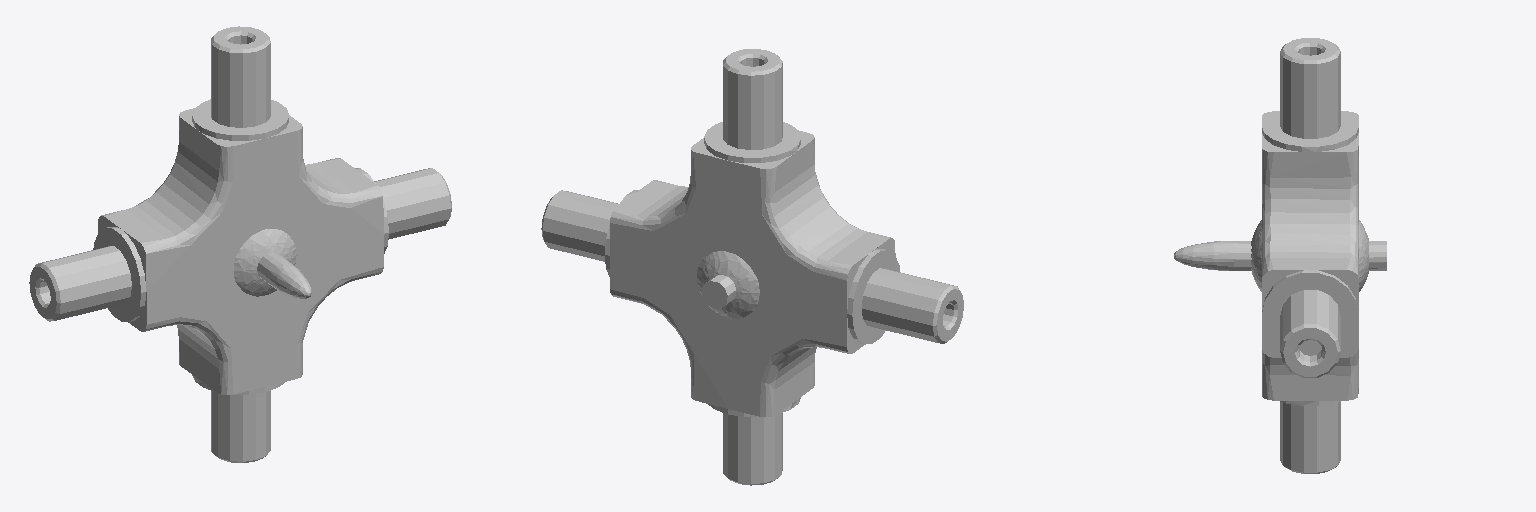
Rendered from TorsoPitchLink.obj.
The picture shows the model from 3 angles: view 1: azimuth 30°, elevation 25°; view 2: azimuth 150°, elevation 25°; view 3: azimuth 270°, elevation 25°; orthographic projection.
Parts seen in each view (by area): view 1: TorsoPitchLink; view 2: TorsoPitchLink; view 3: TorsoPitchLink.
Boxes of the visible parts, <box> form: TorsoPitchLink: <box>29,26,451,462</box>; TorsoPitchLink: <box>541,49,963,485</box>; TorsoPitchLink: <box>1174,38,1386,473</box>.
Bounding box in the file's own units: 0.075 × 0.075 × 0.035.